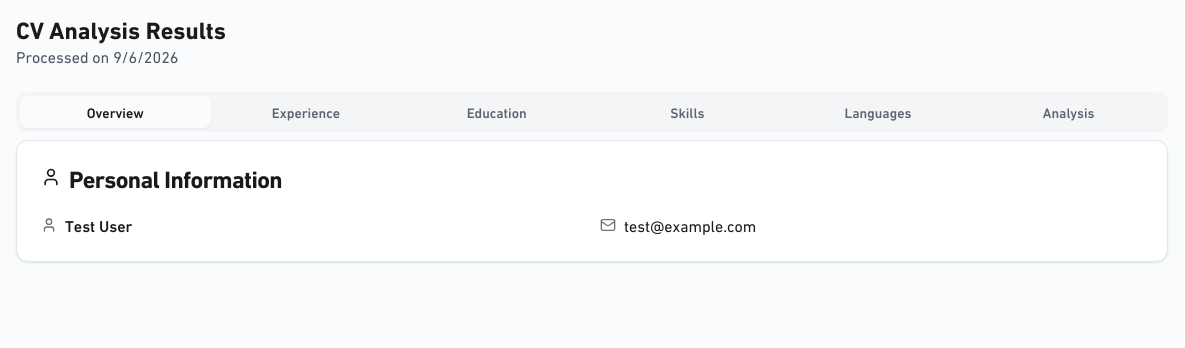
Test: CVAnalysisResults › displays experience details in experience tab
Click the tab "Experience" at (306, 112), box x1=211 y1=96 x2=401 y2=128
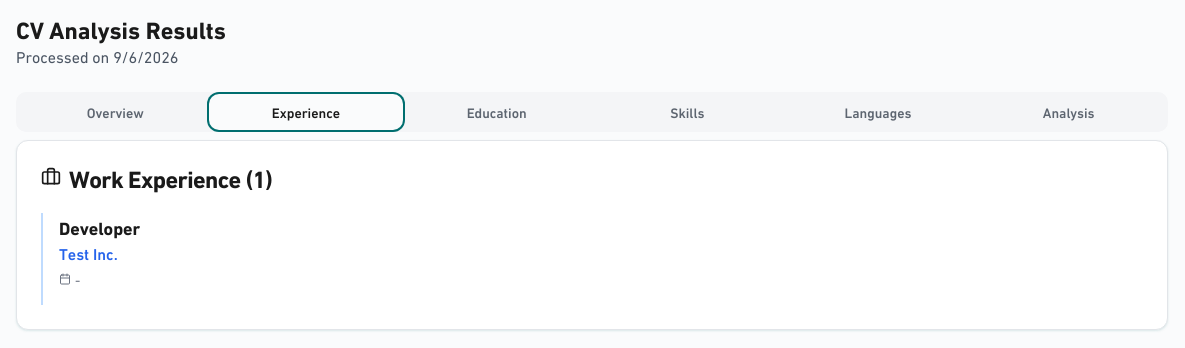
Expected: the heading "Developer" is shown, x1=59 y1=213 x2=140 y2=240
Expected: the text "Test Inc." is shown, x1=59 y1=241 x2=118 y2=264
